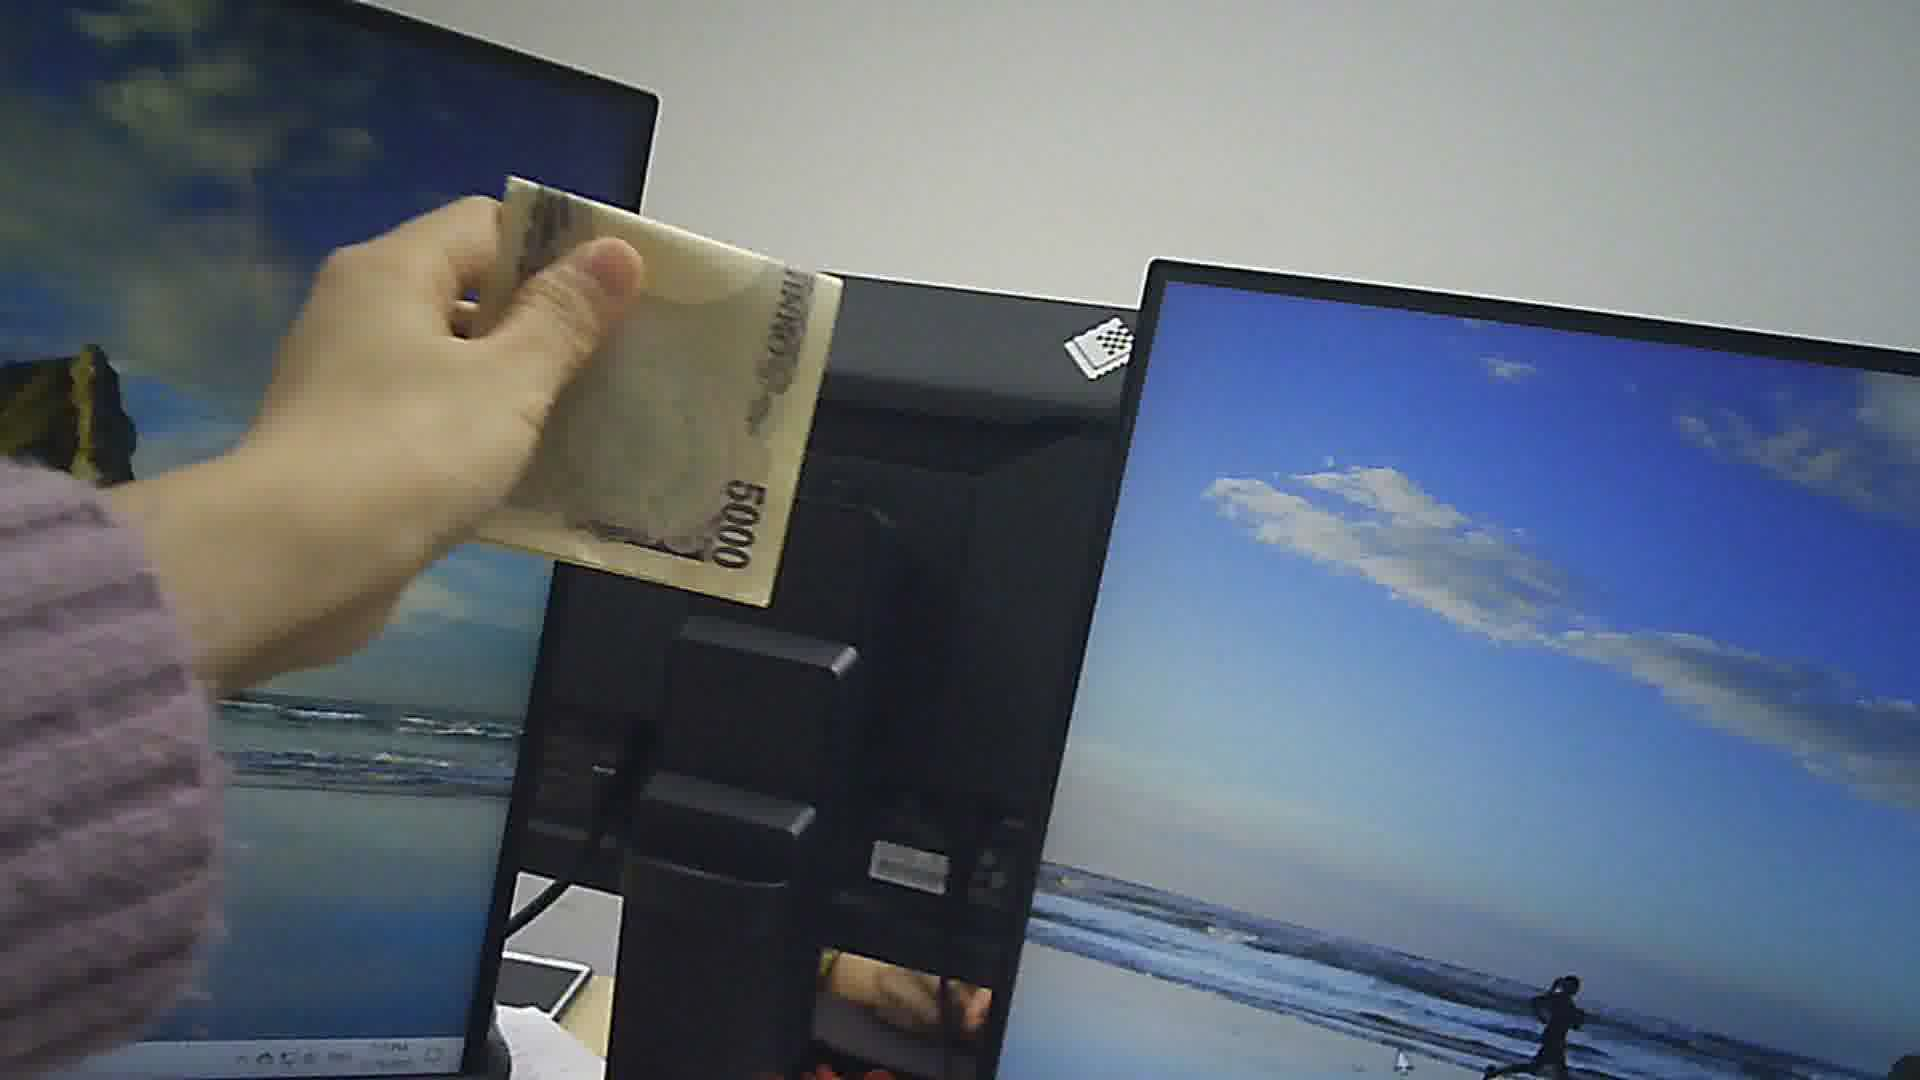5,000 Yen: (439, 156, 856, 615)
